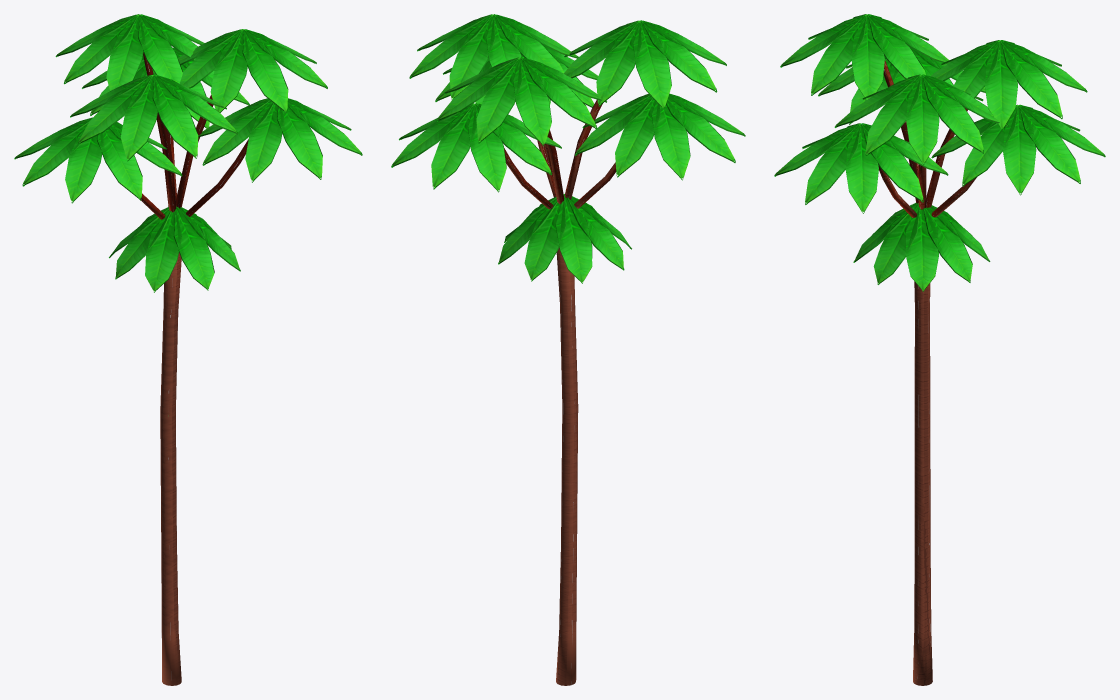
Rendered from PalmeiraAlta.dae.
3 views of the same model, side by side, from view 1: azimuth 30°, elevation 25°; view 2: azimuth 150°, elevation 25°; view 3: azimuth 270°, elevation 25° (orthographic). The views are drawn at different scales.
Visible parts, largest first — view 1: Cilindro.004; view 2: Cilindro.004; view 3: Cilindro.004.
Boxes of the visible parts, <box> form: Cilindro.004: <box>14,14,362,685</box>; Cilindro.004: <box>391,14,745,685</box>; Cilindro.004: <box>774,14,1105,685</box>.
Bounding box in the file's own units: 2.66 × 2.46 × 5.26.
